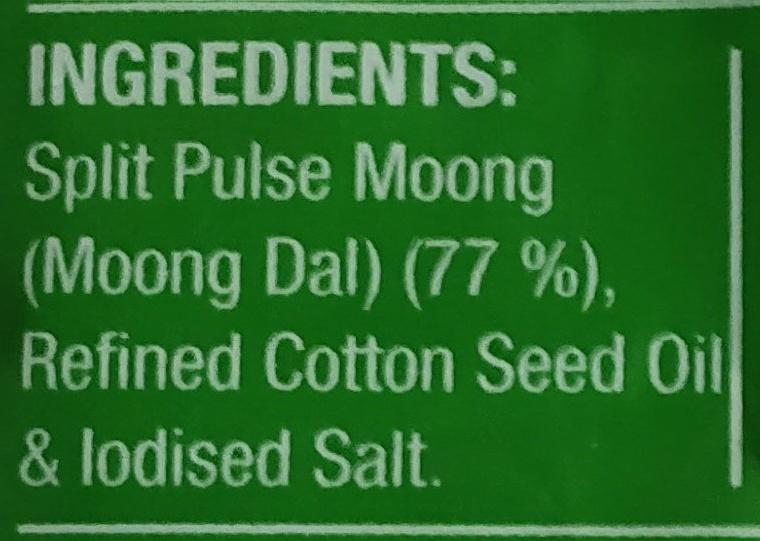ingredients: (19, 23, 746, 511)
